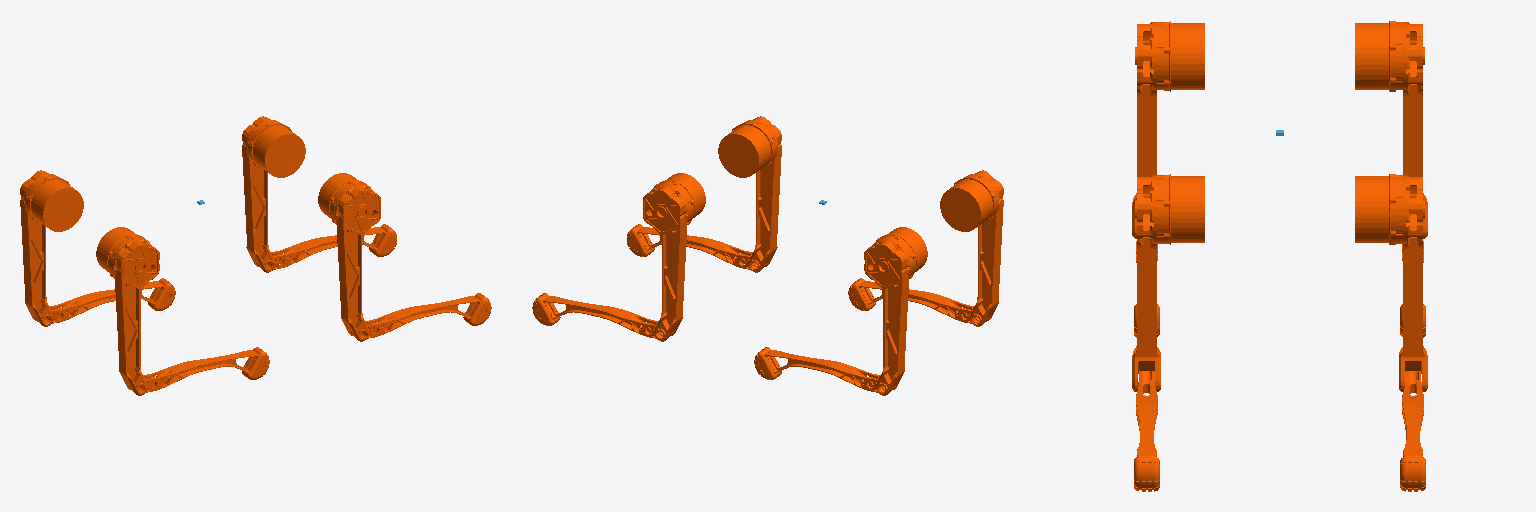
The robot description file, URDF, robot "robot":
<?xml version="1.0" ?>
<robot name="robot">
  <material name="black">
    <color rgba="0.0 0.0 0.0 1.0"/>
  </material>
  <material name="blue">
    <color rgba="0.0 0.0 0.8 1.0"/>
  </material>
  <material name="green">
    <color rgba="0.0 0.8 0.0 1.0"/>
  </material>
  <material name="grey">
    <color rgba="0.2 0.2 0.2 1.0"/>
  </material>
  <material name="silver">
    <color rgba="0.9137254901960784 0.9137254901960784 0.8470588235294118 1.0"/>
  </material>
  <material name="orange">
    <color rgba="1.0 0.4235294117647059 0.0392156862745098 1.0"/>
  </material>
  <material name="brown">
    <color rgba="0.8705882352941177 0.8117647058823529 0.7647058823529411 1.0"/>
  </material>
  <material name="red">
    <color rgba="0.8 0.0 0.0 1.0"/>
  </material>
  <material name="white">
    <color rgba="1.0 1.0 1.0 1.0"/>
  </material>
  <link name="base">
    <visual>
      <origin rpy="0 0 0" xyz="0 0 0"/>
      <geometry>
        <mesh filename="../meshes/trunk.dae" scale="1 1 1"/>
      </geometry>
    </visual>
    <collision>
      <origin rpy="0 0 0" xyz="0 0 0"/>
      <geometry>
        <box size="0.99 0.34 0.24"/>
      </geometry>
    </collision>
    <inertial>
      <origin rpy="0 0 0" xyz="0.0014923112 -0.0014397771 -0.0094584260"/>
      <mass value="41.377848"/>
      <inertia ixx="0.47630359" ixy="-3.9611174E-03" ixz="0.020116265" iyy="1.8915135" iyz="-4.4176612E-03" izz="2.1035448"/>
    </inertial>
  </link>
  
  <!-- Imu is fixed to the base link -->
  <joint name="imu_joint" type="fixed">
    <origin rpy="0. 0. 0." xyz="0. 0. 0."/>
    <parent link="base"/>
    <child link="imu"/>
  </joint>
  <!-- Imu link -->
  <link name="imu">
    <inertial>
      <mass value="0.01"/>
      <origin rpy="0 0 0" xyz="0 0 0"/>
      <inertia ixx="0.000001" ixy="0" ixz="0" iyy="0.000001" iyz="0" izz="0.000001"/>
    </inertial>
    <visual>
      <origin rpy="0 0 0" xyz="0 0 0"/>
      <geometry>
        <box size="0.015 0.015 0.004"/>
      </geometry>
    </visual>
    <material name="orange">
      <color rgba="255 108 10 255"/>
    </material>
  </link>
  <gazebo reference="imu">
    <material>Gazebo/Orange</material>
  </gazebo>
  <gazebo reference="imu_joint">
    <disableFixedJointLumping>true</disableFixedJointLumping>
  </gazebo>

  <!--heavy-->
  <!-- <joint name="heavy_joint" type="fixed">
    <origin rpy="0 0 0" xyz="0 0 0.15"/>
    <parent link="base"/>
    <child link="heavy"/>
    <axis xyz="1 0 0"/>
    <dynamics damping="0" friction="0"/>
  </joint>
  <link name="heavy">
    <visual>
      <geometry>
        <box size="0.5 0.3 0.1"/> 
      </geometry>
      <origin xyz="0 0 0" rpy="0 0 0"/>
      <material name="black"/>
    </visual>
    <collision>
      <origin xyz="0 0 0" rpy="0 0 0"/>
      <geometry>
        <box size="0.5 0.3 0.1"/> 
      </geometry>
    </collision>
    <inertial>
      <origin rpy="0 0 0" xyz="0 0 0"/>
      <mass value="40"/>
      <inertia ixx="0.33333" ixy="0" ixz="0" iyy="0.866667" iyz="0" izz="1.13333"/>
    </inertial>
  </link> -->

  <joint name="FR_hip_joint" type="revolute">
    <origin rpy="0 0 0" xyz="0.325 -0.1125 0"/>
    <parent link="base"/>
    <child link="FR_hip"/>
    <axis xyz="1 0 0"/>
    <dynamics damping="0" friction="0"/>
    <limit effort="160" lower="-0.87" upper="0.69" velocity="19.3"/>
  </joint>
  <link name="FR_hip">
    <visual>
      <origin rpy="3.141592653589793 0 0" xyz="0 0 0"/>
      <geometry>
        <mesh filename="../meshes/hip.dae" scale="1 1 1"/>
      </geometry>
      <material name="orange"/>
    </visual>
    <inertial>
      <origin rpy="0 0 0" xyz="-0.0011794 0.02693 -5.8859E-07"/>
      <mass value="2.7264"/>
      <inertia ixx="0.0043529" ixy="7.7592E-06" ixz="-9.9737E-09" iyy="0.0056391" iyz="1.7393E-08" izz="0.0047569"/>
    </inertial>
  </link>
  <joint name="FR_thigh_joint" type="revolute">
    <origin rpy="0 0 0" xyz="0 -0.126375 0"/>
    <parent link="FR_hip"/>
    <child link="FR_thigh"/>
    <axis xyz="0 1 0"/>
    <dynamics damping="0" friction="0"/>
    <limit effort="180" lower="-0.78" upper="3.0" velocity="21.6"/>
  </joint>
  <link name="FR_thigh">
    <visual>
      <origin rpy="0 0 0" xyz="0 0 0"/>
      <geometry>
        <mesh filename="../meshes/thigh_mirror.dae" scale="1 1 1"/>
      </geometry>
      <material name="orange"/>
    </visual>
    <inertial>
      <origin rpy="0 0 0" xyz="0.008023 0.0407086 -0.0477057"/>
      <mass value="4.5843711"/>
      <inertia ixx="0.0568903" ixy="-1.3859024E-03" ixz="-0.0040888" iyy="0.055707534" iyz="-0.0090795" izz="0.0119193"/>
    </inertial>
  </link>
  <joint name="FR_calf_joint" type="revolute">
    <origin rpy="0 0 0" xyz="0 0 -0.34"/>
    <parent link="FR_thigh"/>
    <child link="FR_calf"/>
    <axis xyz="0 1 0"/>
    <dynamics damping="0" friction="0"/>
    <limit effort="572" lower="-2.6" upper="-0.45" velocity="12.8"/>
  </joint>
  <link name="FR_calf">
    <visual>
      <origin rpy="0 0 0" xyz="0 0 0"/>
      <geometry>
        <mesh filename="../meshes/calf.dae" scale="1 1 1"/>
      </geometry>
      <material name="orange"/>
    </visual>
    <collision>
      <origin rpy="0 1.5707963267948966 0" xyz="0.0 0 -0.17"/>
      <geometry>
        <box size="0.25 0.04 0.0495"/>
      </geometry>
    </collision>
    <collision>
      <origin rpy="1.5708 0 0" xyz="0 0 0"/>
      <geometry>
        <cylinder radius="0.03" length="0.05"/>
      </geometry>
    </collision>
    <inertial>
      <origin rpy="0 0 0" xyz="-4.1136934E-03 -2.2641006E-06 -0.18227639"/>
      <mass value="0.82150729"/>
      <inertia ixx="0.017546212" ixy="-2.5076089E-09" ixz="-3.8977294E-05" iyy="0.017775449" iyz="-3.0610477E-07" izz="4.2961251E-04"/>
    </inertial>
  </link>
  <joint name="FR_foot_fixed" type="fixed" dont_collapse="true">
    <origin rpy="0 0 0" xyz="0 0 -0.34"/>
    <parent link="FR_calf"/>
    <child link="FR_FOOT"/>
  </joint>
  <link name="FR_FOOT">
    <collision>
      <origin rpy="0 0 0" xyz="0 0 0"/>
      <geometry>
        <sphere radius="0.045"/>
      </geometry>
    </collision>
    <inertial>
      <mass value="0.12"/>
      <inertia ixx="1.000e-09" ixy="0.0" ixz="0.0" iyy="1.000e-09" iyz="0.0" izz="1.000e-09"/>
    </inertial>
  </link>
  <joint name="FL_hip_joint" type="revolute">
    <origin rpy="0 0 0" xyz="0.325 0.1125 0"/>
    <parent link="base"/>
    <child link="FL_hip"/>
    <axis xyz="1 0 0"/>
    <dynamics damping="0" friction="0"/>
    <limit effort="160" lower="-0.69" upper="0.87" velocity="19.3"/>
  </joint>
  <link name="FL_hip">
    <visual>
      <origin rpy="0 0 0" xyz="0 0 0"/>
      <geometry>
        <mesh filename="../meshes/hip.dae" scale="1 1 1"/>
      </geometry>
      <material name="orange"/>
    </visual>
    <inertial>
      <origin rpy="0 0 0" xyz="-0.0011794 -0.02693 5.8859E-07"/>
      <mass value="2.7264"/>
      <inertia ixx="0.0043529" ixy="-7.7592E-06" ixz="9.9737E-09" iyy="0.0056391" iyz="1.7393E-08" izz="0.0047569"/>
    </inertial>
  </link>
  <joint name="FL_thigh_joint" type="revolute">
    <origin rpy="0 0 0" xyz="0 0.126375 0"/>
    <parent link="FL_hip"/>
    <child link="FL_thigh"/>
    <axis xyz="0 1 0"/>
    <dynamics damping="0" friction="0"/>
    <limit effort="180" lower="-0.78" upper="3.0" velocity="21.6"/>
  </joint>
  <link name="FL_thigh">
    <visual>
      <origin rpy="0 0 0" xyz="0 0 0"/>
      <geometry>
        <mesh filename="../meshes/thigh.dae" scale="1 1 1"/>
      </geometry>
      <material name="orange"/>
    </visual>
    <inertial>
      <origin rpy="0 0 0" xyz="0.008023 -0.0407086 -0.0477057"/>
      <mass value="4.5843711"/>
      <inertia ixx="0.0568903" ixy="1.3859024E-03" ixz="-0.0040888" iyy="0.055707534" iyz="0.0090795" izz="0.0119193"/>
    </inertial>
  </link>
  <joint name="FL_calf_joint" type="revolute">
    <origin rpy="0 0 0" xyz="0 0 -0.34"/>
    <parent link="FL_thigh"/>
    <child link="FL_calf"/>
    <axis xyz="0 1 0"/>
    <dynamics damping="0" friction="0"/>
    <limit effort="572" lower="-2.6" upper="-0.45" velocity="12.8"/>
  </joint>
  <link name="FL_calf">
    <visual>
      <origin rpy="0 0 0" xyz="0 0 0"/>
      <geometry>
        <mesh filename="../meshes/calf.dae" scale="1 1 1"/>
      </geometry>
      <material name="orange"/>
    </visual>
    <collision>
      <origin rpy="0 1.5707963267948966 0" xyz="0.0 0 -0.17"/>
      <geometry>
        <box size="0.25 0.04 0.0495"/>
      </geometry>
    </collision>
    <collision>
      <origin rpy="1.5708 0 0" xyz="0 0 0"/>
      <geometry>
        <cylinder radius="0.03" length="0.05"/>
      </geometry>
    </collision>
    <inertial>
      <origin rpy="0 0 0" xyz="-4.1136934E-03 2.2641006E-06 -0.18227639"/>
      <mass value="0.82150729"/>
      <inertia ixx="0.017546212" ixy="-2.5076089E-09" ixz="3.8977294E-05" iyy="0.017775449" iyz="3.0610477E-07" izz="4.2961251E-04"/>
    </inertial>
  </link>
  <joint name="FL_foot_fixed" type="fixed" dont_collapse="true">
    <origin rpy="0 0 0" xyz="0 0 -0.34"/>
    <parent link="FL_calf"/>
    <child link="FL_FOOT"/>
  </joint>
  <link name="FL_FOOT">
    <collision>
      <origin rpy="0 0 0" xyz="0 0 0"/>
      <geometry>
        <sphere radius="0.045"/>
      </geometry>
    </collision>
    <inertial>
      <mass value="0.12"/>
      <inertia ixx="1.000e-09" ixy="0.0" ixz="0.0" iyy="1.000e-09" iyz="0.0" izz="1.000e-09"/>
    </inertial>
  </link>
  <joint name="RR_hip_joint" type="revolute">
    <origin rpy="0 0 0" xyz="-0.325 -0.1125 0"/>
    <parent link="base"/>
    <child link="RR_hip"/>
    <axis xyz="1 0 0"/>
    <dynamics damping="0" friction="0"/>
    <limit effort="160" lower="-0.87" upper="0.69" velocity="19.3"/>
  </joint>
  <link name="RR_hip">
    <visual>
      <origin rpy="3.141592653589793 3.141592653589793 0" xyz="0 0 0"/>
      <geometry>
        <mesh filename="../meshes/hip.dae" scale="1 1 1"/>
      </geometry>
      <material name="orange"/>
    </visual>
    <inertial>
      <origin rpy="0 0 0" xyz="0.0011794 0.02693 5.8859E-07"/>
      <mass value="2.7264"/>
      <inertia ixx="0.0043529" ixy="-7.7592E-06" ixz="-9.9737E-09" iyy="0.0056391" iyz="-1.7393E-08" izz="0.0047569"/>
    </inertial>
  </link>
  <joint name="RR_thigh_joint" type="revolute">
    <origin rpy="0 0 0" xyz="0 -0.126375 0"/>
    <parent link="RR_hip"/>
    <child link="RR_thigh"/>
    <axis xyz="0 1 0"/>
    <dynamics damping="0" friction="0"/>
    <limit effort="180" lower="-0.78" upper="2.1" velocity="21.6"/>
  </joint>
  <link name="RR_thigh">
    <visual>
      <origin rpy="0 0 0" xyz="0 0 0"/>
      <geometry>
        <mesh filename="../meshes/thigh_mirror.dae" scale="1 1 1"/>
      </geometry>
      <material name="orange"/>
    </visual>
    <inertial>
      <origin rpy="0 0 0" xyz="0.008023 0.0407086 -0.0477057"/>
      <mass value="4.5843711"/>
      <inertia ixx="0.0568903" ixy="-1.3859024E-03" ixz="-0.0040888" iyy="0.055707534" iyz="-0.0090795" izz="0.0119193"/>
    </inertial>
  </link>
  <joint name="RR_calf_joint" type="revolute">
    <origin rpy="0 0 0" xyz="0 0 -0.34"/>
    <parent link="RR_thigh"/>
    <child link="RR_calf"/>
    <axis xyz="0 1 0"/>
    <dynamics damping="0" friction="0"/>
    <limit effort="572" lower="-2.6" upper="-0.45" velocity="12.8"/>
  </joint>
  <link name="RR_calf">
    <visual>
      <origin rpy="0 0 0" xyz="0 0 0"/>
      <geometry>
        <mesh filename="../meshes/calf.dae" scale="1 1 1"/>
      </geometry>
      <material name="orange"/>
    </visual>
    <collision>
      <origin rpy="0 1.5707963267948966 0" xyz="0.0 0 -0.17"/>
      <geometry>
        <box size="0.25 0.04 0.0495"/>
      </geometry>
    </collision>
    <collision>
      <origin rpy="1.5708 0 0" xyz="0 0 0"/>
      <geometry>
        <cylinder radius="0.03" length="0.05"/>
      </geometry>
    </collision>
    <inertial>
      <origin rpy="0 0 0" xyz="-4.1136934E-03 -2.2641006E-06 -0.18227639"/>
      <mass value="0.82150729"/>
      <inertia ixx="0.017546212" ixy="-2.5076089E-09" ixz="-3.8977294E-05" iyy="0.017775449" iyz="-3.0610477E-07" izz="4.2961251E-04"/>
    </inertial>
  </link>
  <joint name="RR_foot_fixed" type="fixed" dont_collapse="true">
    <origin rpy="0 0 0" xyz="0 0 -0.34"/>
    <parent link="RR_calf"/>
    <child link="RR_FOOT"/>
  </joint>
  <link name="RR_FOOT">
    <collision>
      <origin rpy="0 0 0" xyz="0 0 0"/>
      <geometry>
        <sphere radius="0.045"/>
      </geometry>
    </collision>
    <inertial>
      <mass value="0.12"/>
      <inertia ixx="1.000e-09" ixy="0.0" ixz="0.0" iyy="1.000e-09" iyz="0.0" izz="1.000e-09"/>
    </inertial>
  </link>
  <joint name="RL_hip_joint" type="revolute">
    <origin rpy="0 0 0" xyz="-0.325 0.1125 0"/>
    <parent link="base"/>
    <child link="RL_hip"/>
    <axis xyz="1 0 0"/>
    <dynamics damping="0" friction="0"/>
    <limit effort="160" lower="-0.69" upper="0.87" velocity="19.3"/>
  </joint>
  <link name="RL_hip">
    <visual>
      <origin rpy="0 3.141592653589793 0" xyz="0 0 0"/>
      <geometry>
        <mesh filename="../meshes/hip.dae" scale="1 1 1"/>
      </geometry>
      <material name="orange"/>
    </visual>
    <inertial>
      <origin rpy="0 0 0" xyz="0.0011794 -0.02693 -5.8859E-07"/>
      <mass value="2.7264"/>
      <inertia ixx="0.0043529" ixy="7.7592E-06" ixz="9.9737E-09" iyy="0.0056391" iyz="-1.7393E-08" izz="0.0047569"/>
    </inertial>
  </link>
  <joint name="RL_thigh_joint" type="revolute">
    <origin rpy="0 0 0" xyz="0 0.126375 0"/>
    <parent link="RL_hip"/>
    <child link="RL_thigh"/>
    <axis xyz="0 1 0"/>
    <dynamics damping="0" friction="0"/>
    <limit effort="180" lower="-0.78" upper="2.1" velocity="21.6"/>
  </joint>
  <link name="RL_thigh">
    <visual>
      <origin rpy="0 0 0" xyz="0 0 0"/>
      <geometry>
        <mesh filename="../meshes/thigh.dae" scale="1 1 1"/>
      </geometry>
      <material name="orange"/>
    </visual>
    <inertial>
      <origin rpy="0 0 0" xyz="0.008023 -0.0407086 -0.0477057"/>
      <mass value="4.5843711"/>
      <inertia ixx="0.0568903" ixy="1.3859024E-03" ixz="-0.0040888" iyy="0.055707534" iyz="0.0090795" izz="0.0119193"/>
    </inertial>
  </link>
  <joint name="RL_calf_joint" type="revolute">
    <origin rpy="0 0 0" xyz="0 0 -0.34"/>
    <parent link="RL_thigh"/>
    <child link="RL_calf"/>
    <axis xyz="0 1 0"/>
    <dynamics damping="0" friction="0"/>
    <limit effort="572" lower="-2.6" upper="-0.45" velocity="12.8"/>
  </joint>
  <link name="RL_calf">
    <visual>
      <origin rpy="0 0 0" xyz="0 0 0"/>
      <geometry>
        <mesh filename="../meshes/calf.dae" scale="1 1 1"/>
      </geometry>
      <material name="orange"/>
    </visual>
    <collision>
      <origin rpy="0 1.5707963267948966 0" xyz="0.0 0 -0.17"/>
      <geometry>
        <box size="0.25 0.04 0.0495"/>
      </geometry>
    </collision>
    <collision>
      <origin rpy="1.5708 0 0" xyz="0 0 0"/>
      <geometry>
        <cylinder radius="0.03" length="0.05"/>
      </geometry>
    </collision>
    <inertial>
      <origin rpy="0 0 0" xyz="-4.1136934E-03 2.2641006E-06 -0.18227639"/>
      <mass value="0.82150729"/>
      <inertia ixx="0.017546212" ixy="-2.5076089E-09" ixz="3.8977294E-05" iyy="0.017775449" iyz="3.0610477E-07" izz="4.2961251E-04"/>
    </inertial>
  </link>
  <joint name="RL_foot_fixed" type="fixed" dont_collapse="true">
    <origin rpy="0 0 0" xyz="0 0 -0.34"/>
    <parent link="RL_calf"/>
    <child link="RL_FOOT"/>
  </joint>
  <link name="RL_FOOT">
    <collision>
      <origin rpy="0 0 0" xyz="0 0 0"/>
      <geometry>
        <sphere radius="0.045"/>
      </geometry>
    </collision>
    <inertial>
      <mass value="0.12"/>
      <inertia ixx="1.000e-09" ixy="0.0" ixz="0.0" iyy="1.000e-09" iyz="0.0" izz="1.000e-09"/>
    </inertial>
  </link>
</robot>

--- Facts derived from the render (not from the file) ---
3 views of the same robot in one strip: view 1: azimuth 30°, elevation 25°; view 2: azimuth 150°, elevation 25°; view 3: azimuth 270°, elevation 25° (orthographic).
Model robot with 18 links and 17 joints (12 revolute, 5 fixed), rooted at base, posed all joints at 0 but 4 set to mid-range because 0 is outside their limits (FR_calf_joint = -1.52, FL_calf_joint = -1.52, RR_calf_joint = -1.52, RL_calf_joint = -1.52).
Visible links, largest first — view 1: RR_thigh, FR_thigh, FL_thigh, RL_thigh, RR_calf, FR_calf, FL_calf, RL_calf; view 2: RL_thigh, FL_thigh, FR_thigh, RR_thigh, RL_calf, FL_calf, FR_calf, RR_calf; view 3: FL_thigh, FR_thigh, RL_thigh, RR_thigh, FR_calf, FL_calf.
Boxes of the visible links, box(x1,y1,x2,y2) form: RR_thigh: box(96, 227, 159, 395); FR_thigh: box(318, 173, 380, 341); FL_thigh: box(242, 116, 305, 272); RL_thigh: box(20, 170, 83, 326); RR_calf: box(128, 347, 269, 392); FR_calf: box(350, 293, 491, 338); FL_calf: box(256, 224, 396, 269); RL_calf: box(34, 278, 175, 323); RL_thigh: box(864, 227, 927, 395); FL_thigh: box(643, 173, 705, 341); FR_thigh: box(718, 116, 781, 272); RR_thigh: box(940, 170, 1003, 326); RL_calf: box(754, 347, 895, 392); FL_calf: box(532, 293, 673, 338); FR_calf: box(627, 224, 767, 269); RR_calf: box(848, 278, 989, 323); FL_thigh: box(1355, 174, 1427, 391); FR_thigh: box(1132, 174, 1204, 391); RL_thigh: box(1355, 21, 1427, 238); RR_thigh: box(1132, 21, 1204, 238); FR_calf: box(1134, 371, 1159, 491); FL_calf: box(1400, 371, 1425, 491).
Bounding box of the posed robot: 1.09 × 0.5297 × 0.4617 m (x, y, z).
8 mesh visuals loaded from 5 distinct referenced files (3 Collada DAE); not drawn: 5 (reference not matched to a file when rendering).
